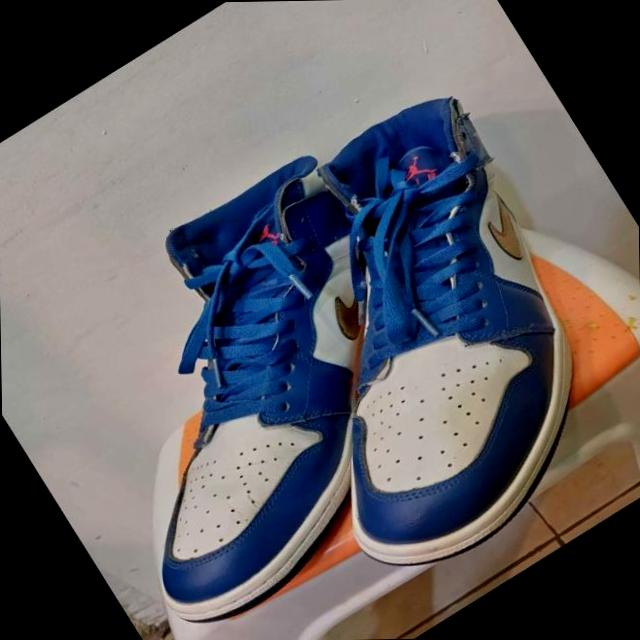nike_fake_jordan: (0, 90, 586, 640), (171, 75, 640, 605)
